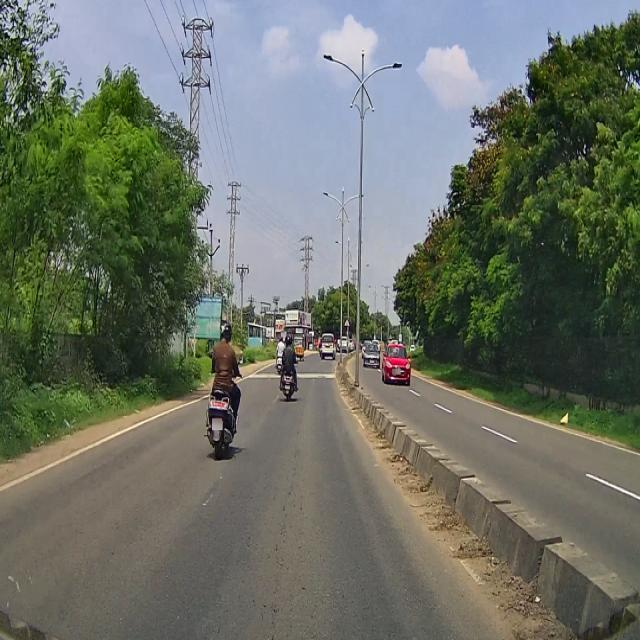motorcycle ahead at: (205, 372, 246, 463), (278, 358, 302, 403)
